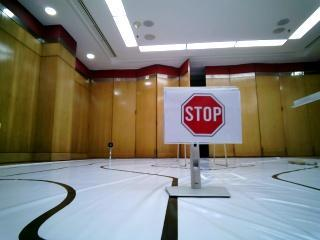stop: (169, 93, 236, 141)
